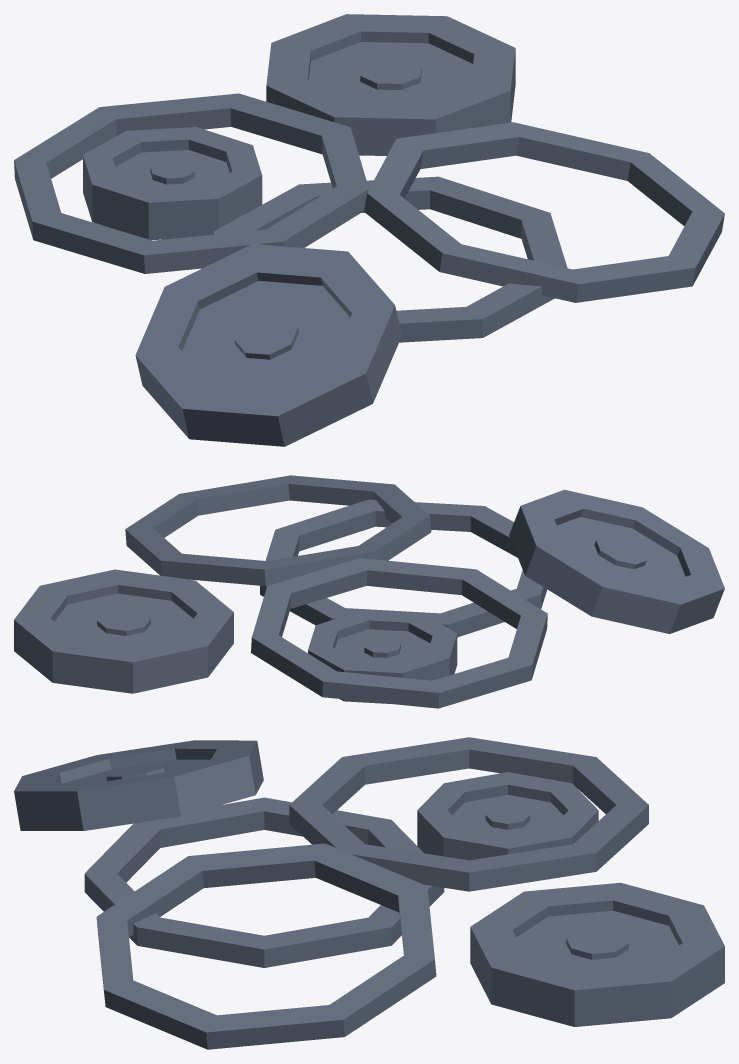
Rendered from MetalScrapV4.gltf.
The picture shows the model from 3 angles, top to bottom: view 1: azimuth 30°, elevation 25°; view 2: azimuth 150°, elevation 25°; view 3: azimuth 270°, elevation 25°; orthographic projection. The views are drawn at different scales.
Visible parts, largest first — view 1: MetalSrapV4; view 2: MetalSrapV4; view 3: MetalSrapV4.
Boxes of the visible parts, box(x1,y1,x2,y2) form: MetalSrapV4: box(14, 14, 724, 446); MetalSrapV4: box(14, 475, 724, 708); MetalSrapV4: box(14, 737, 724, 1049).
Size of the model in its own units: 0.7353 by 0.1334 by 0.7735.
